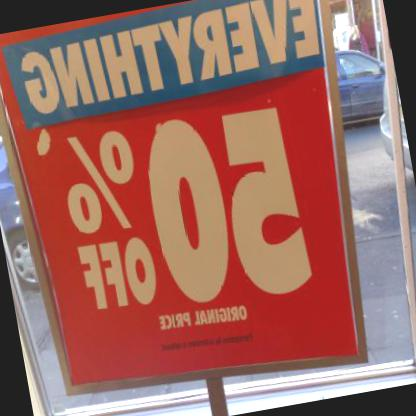car: (0, 137, 51, 295), (360, 37, 412, 179), (324, 43, 394, 128)
